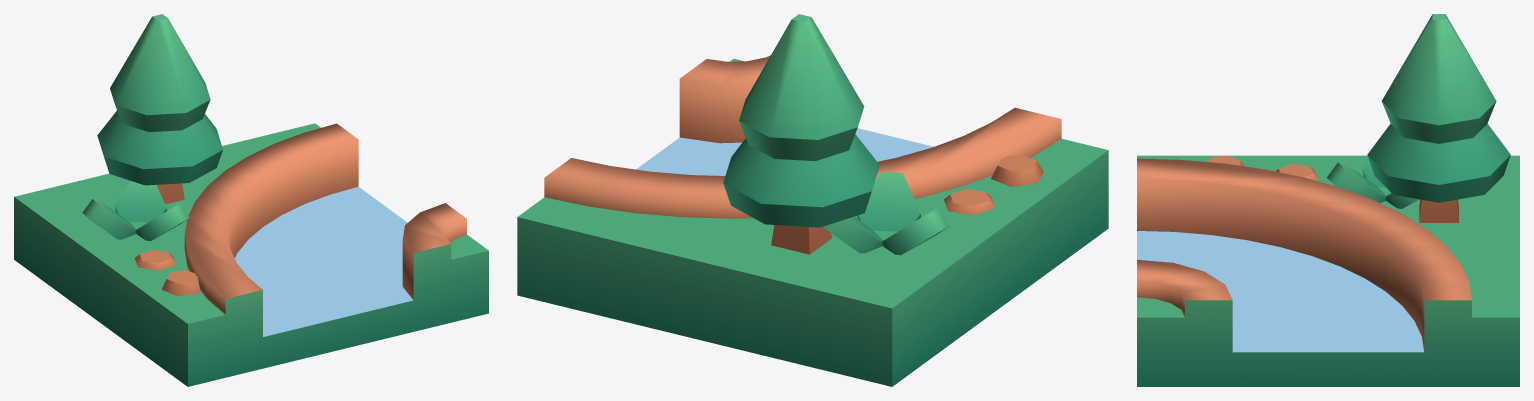
File: tile-river-corner.glb
The picture shows the model from 3 angles, left to right: view 1: azimuth 30°, elevation 25°; view 2: azimuth 150°, elevation 25°; view 3: azimuth 270°, elevation 25°; orthographic projection. The views are drawn at different scales.
Visible parts, largest first — view 1: tile-river-corner; view 2: tile-river-corner; view 3: tile-river-corner.
Boxes of the visible parts, x1,y1,x2,y2 form: tile-river-corner: (14,14,488,386); tile-river-corner: (517,14,1108,386); tile-river-corner: (1137,14,1519,386).
Bounding box in the file's own units: 1 × 0.77 × 1.
1 material, 1 textured.
